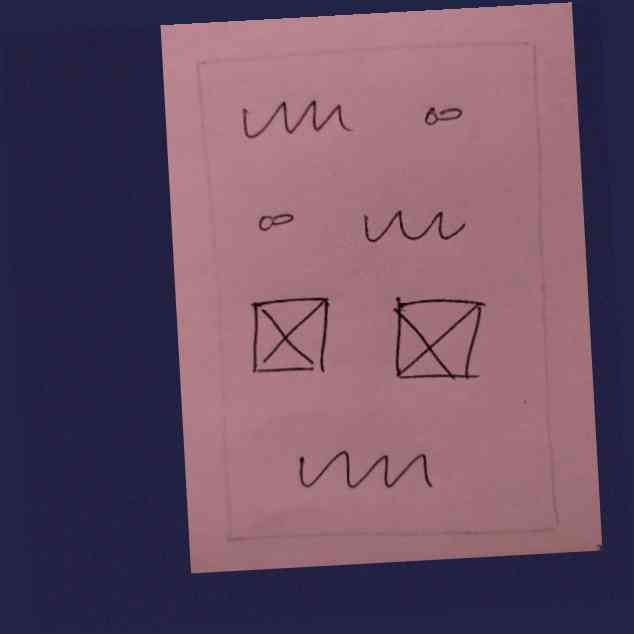image: (382, 288, 496, 391), (242, 288, 336, 383)
switch: (408, 94, 478, 138), (251, 198, 306, 243)
text: (287, 431, 437, 508), (235, 88, 363, 146), (355, 195, 471, 253)
